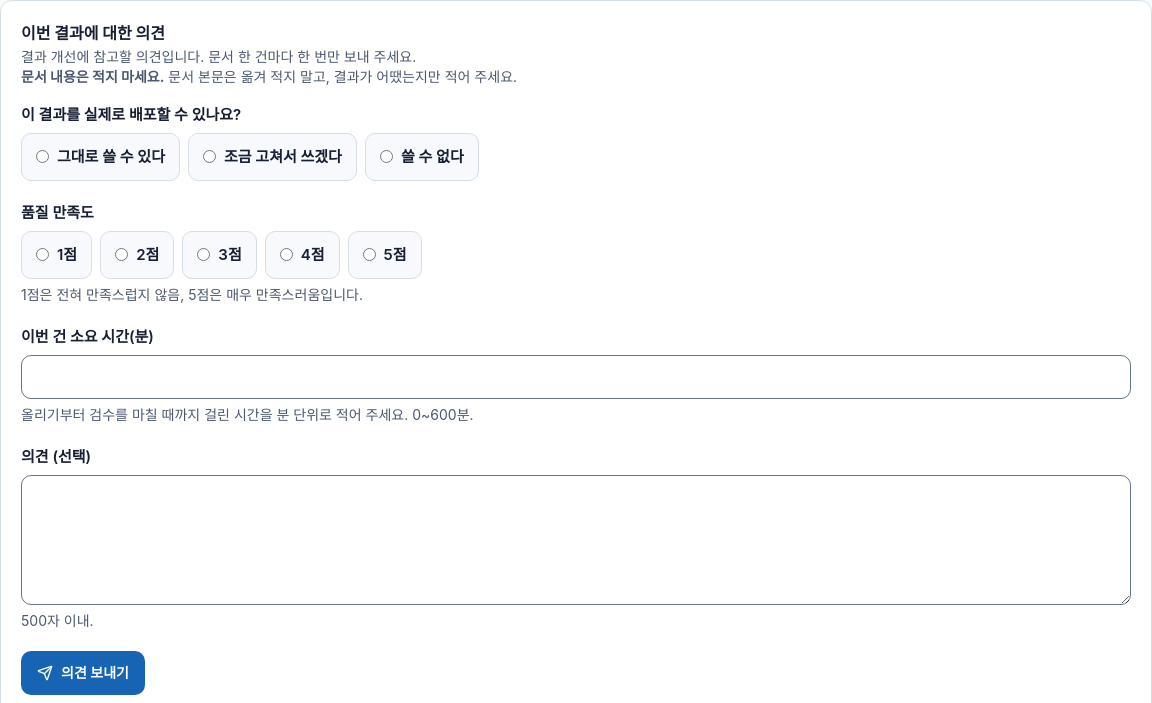
Test: 검수 피드백 폼 › 고르지 않은 라디오 묶음의 오류가 묶음에 프로그램적으로 연결된다
This screenshot has width=1152, height=703.
Click the button "의견 보내기" at (83, 673), box [21, 651, 145, 695]
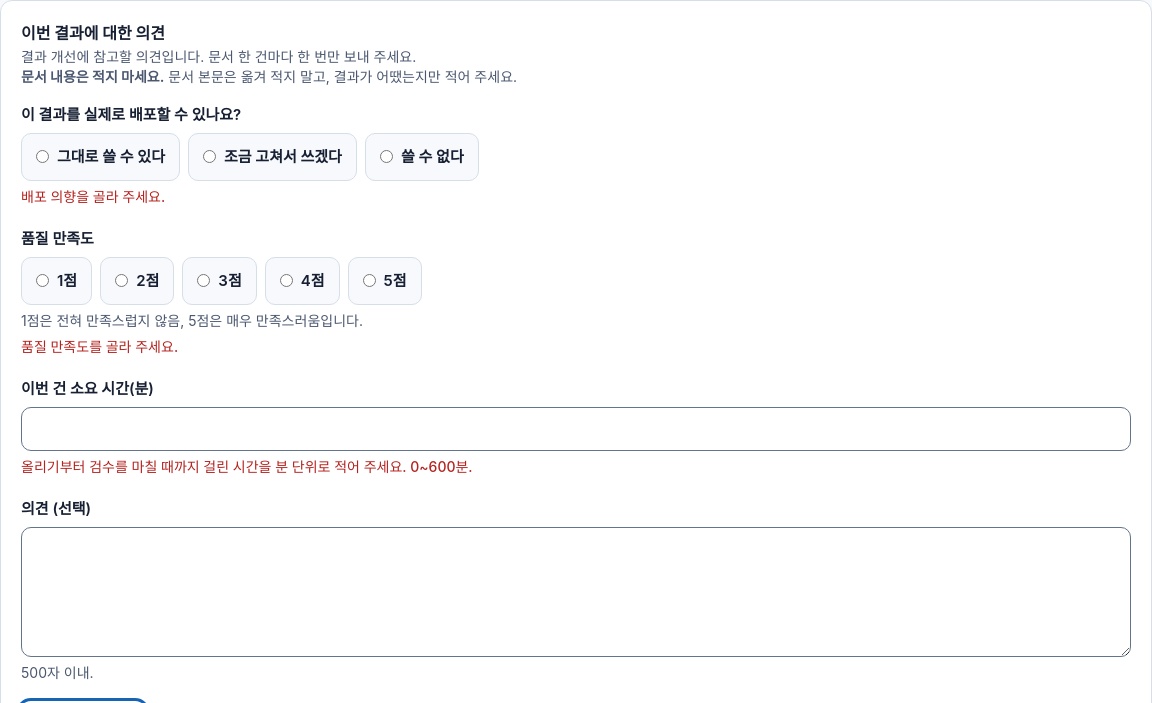
Expected: the text "배포 의향을 골라 주세요." is shown, [21, 188, 165, 205]
